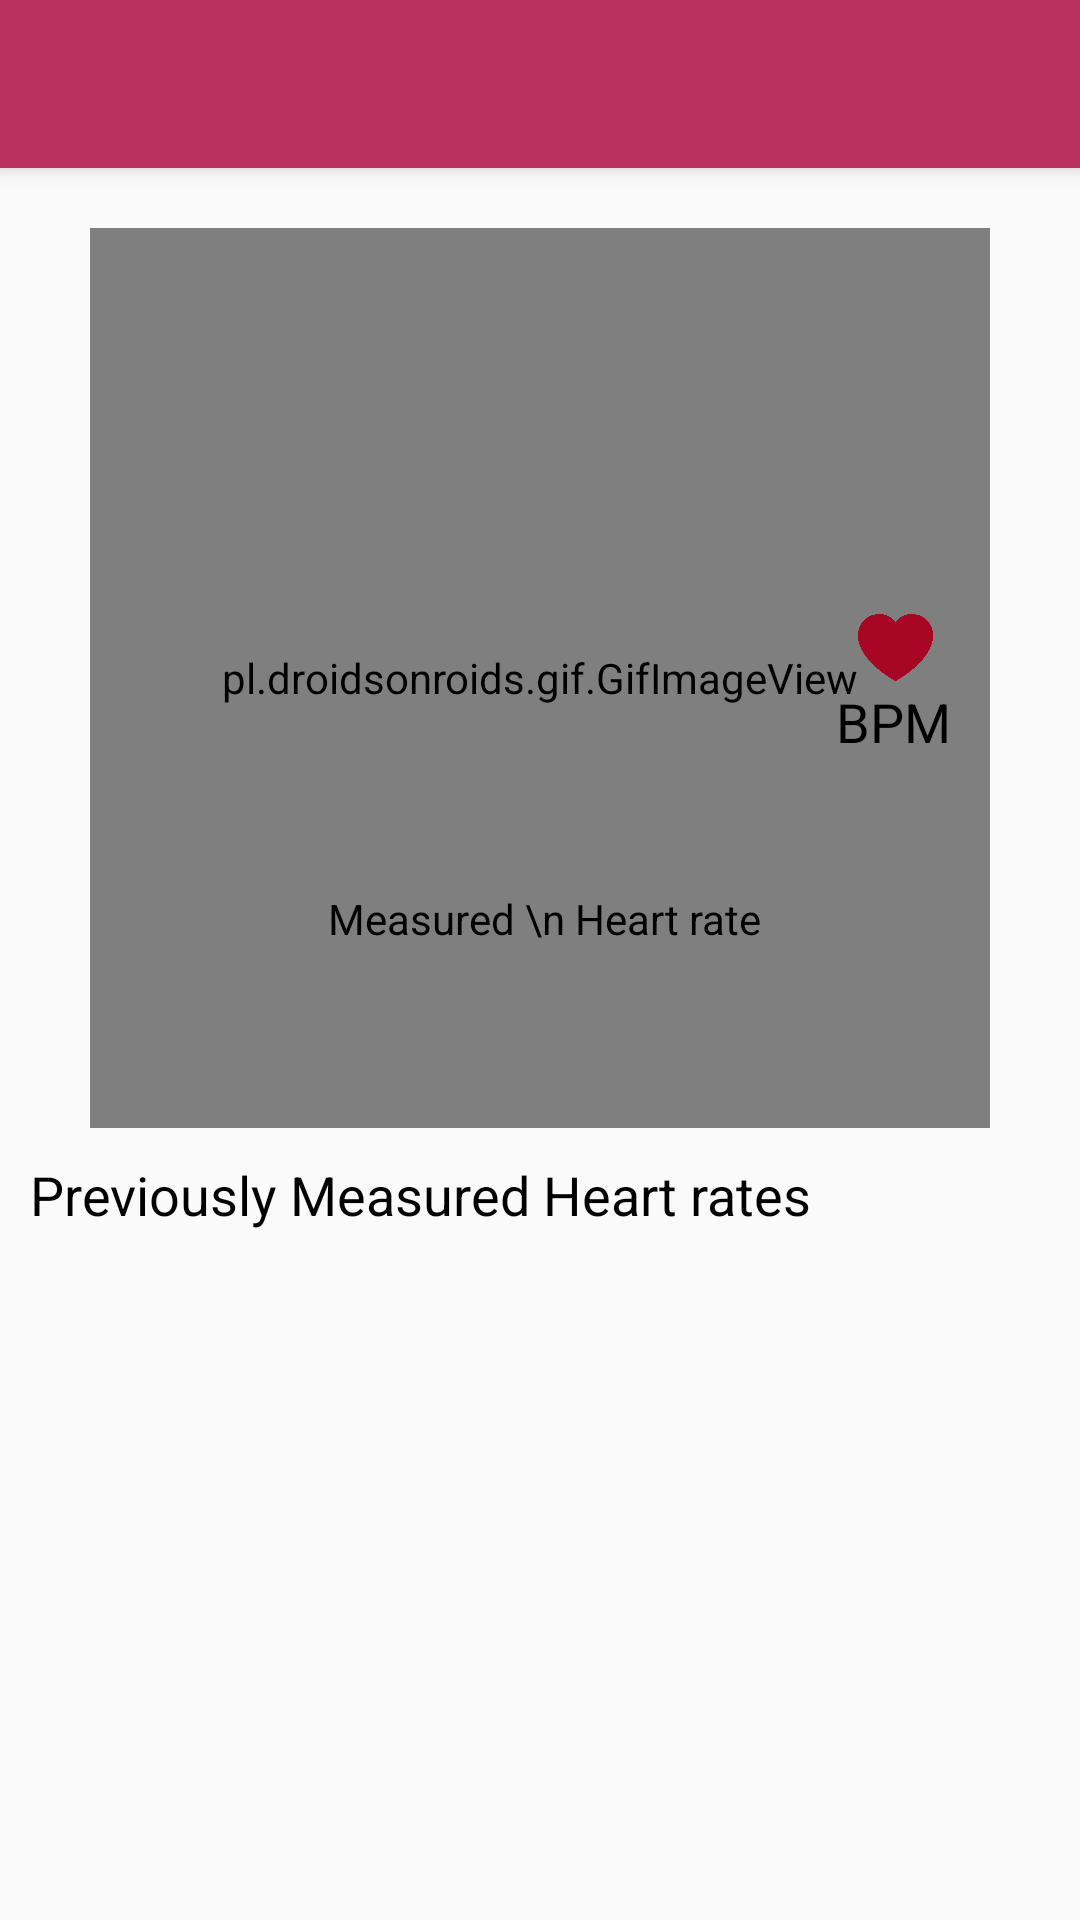

Where icons sit on this 1080x1920 app screen, as (x1, y1, x2, y2):
heart: (858, 614, 933, 681)
